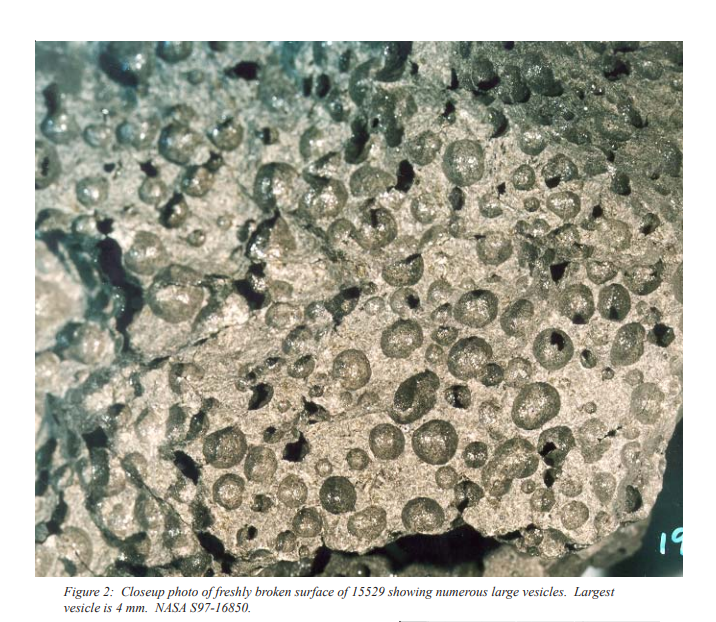Basalt: (42, 48, 665, 525), (99, 158, 608, 476)
